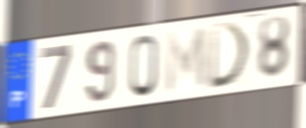0: (128, 33, 160, 100)
7: (38, 42, 75, 114)
8: (256, 15, 292, 84)
9: (84, 39, 117, 106)
D: (208, 20, 253, 92)
M: (164, 25, 209, 97)
